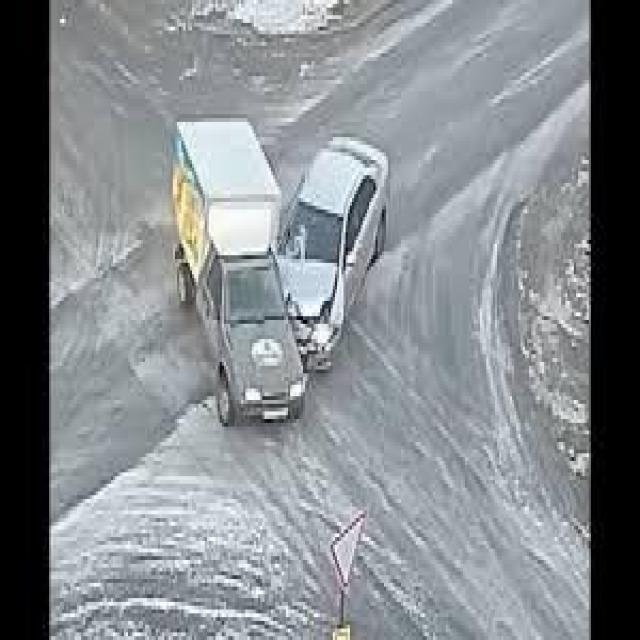multiple_accident: (166, 117, 366, 436)
